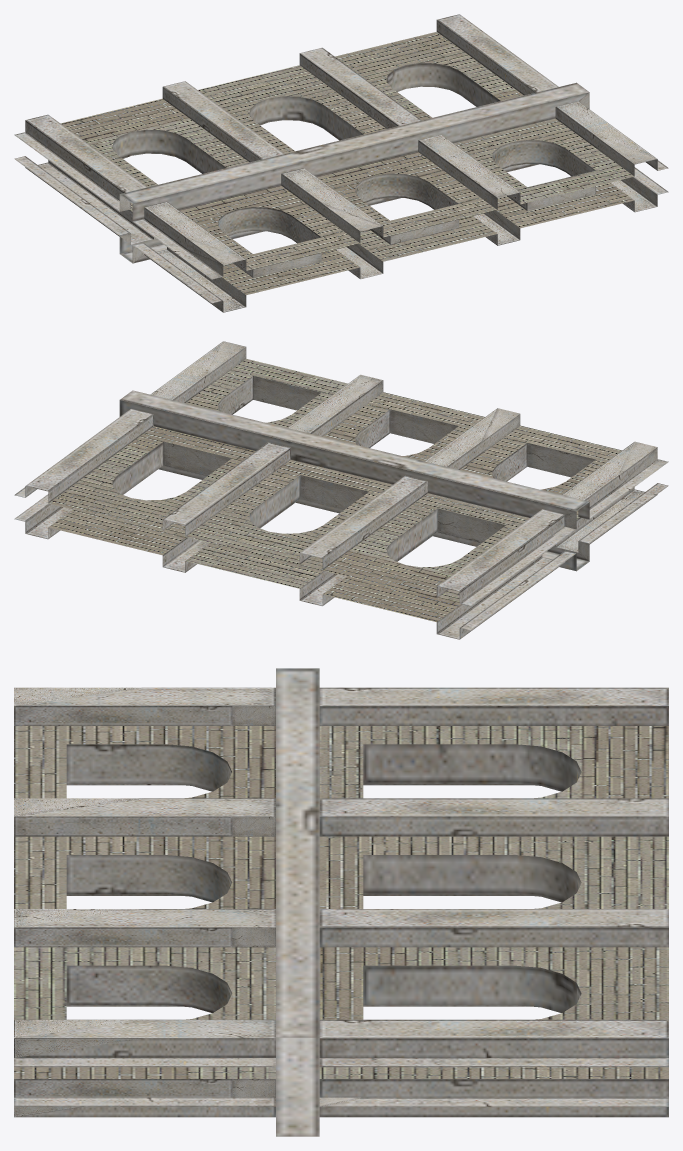
The model's file is SM_SYD_Facade02.fbx.
3 renders of one model, top to bottom at view 1: azimuth 30°, elevation 25°; view 2: azimuth 150°, elevation 25°; view 3: azimuth 270°, elevation 25°, orthographic. The views are drawn at different scales.
Parts seen in each view (by area): view 1: SM_SYD_Facade02; view 2: SM_SYD_Facade02; view 3: SM_SYD_Facade02.
Boxes of the visible parts, x1,y1,x2,y2 form: SM_SYD_Facade02: [14, 14, 668, 312]; SM_SYD_Facade02: [14, 341, 668, 639]; SM_SYD_Facade02: [14, 668, 668, 1136].
Size of the model in its own units: 1500 by 187 by 1125.
